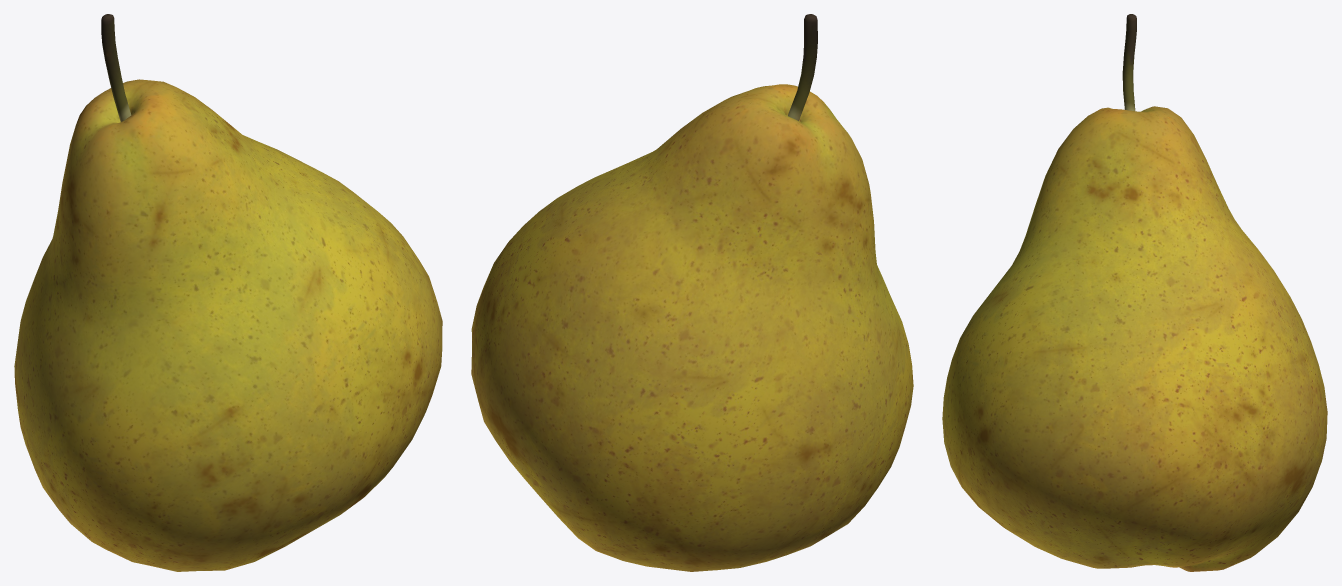
File: pear.glb
3 views of the same model, side by side, from view 1: azimuth 30°, elevation 25°; view 2: azimuth 150°, elevation 25°; view 3: azimuth 270°, elevation 25° (orthographic). The views are drawn at different scales.
Parts seen in each view (by area): view 1: pear; view 2: pear; view 3: pear.
Part boxes in pixels (box(x1,y1,x2,y2)): pear: box(14, 14, 442, 571); pear: box(471, 14, 913, 571); pear: box(942, 14, 1327, 571).
Bounding box in the file's own units: 0.8024 × 1.11 × 0.7751.
Materials: 1 (1 with a texture image).
